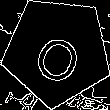O_NE: (27, 19, 87, 83)
